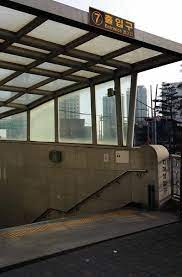guide_blocks: (4, 223, 71, 235)
